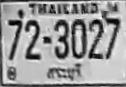0: (71, 19, 86, 58)
2: (24, 19, 41, 60), (88, 18, 104, 59)
3: (53, 19, 68, 58)
7: (105, 17, 120, 58), (8, 19, 22, 59)
SRI: (44, 62, 84, 82)
